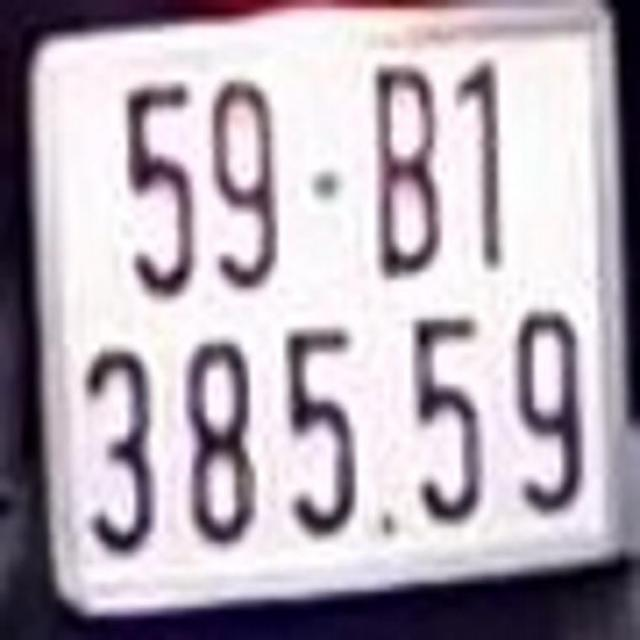1: (450, 42, 536, 276)
3: (72, 330, 165, 553)
5: (276, 313, 371, 537), (113, 68, 203, 295), (402, 310, 492, 526)
8: (180, 323, 264, 544)
9: (204, 59, 287, 295), (512, 298, 598, 512)
B: (354, 44, 449, 284)
